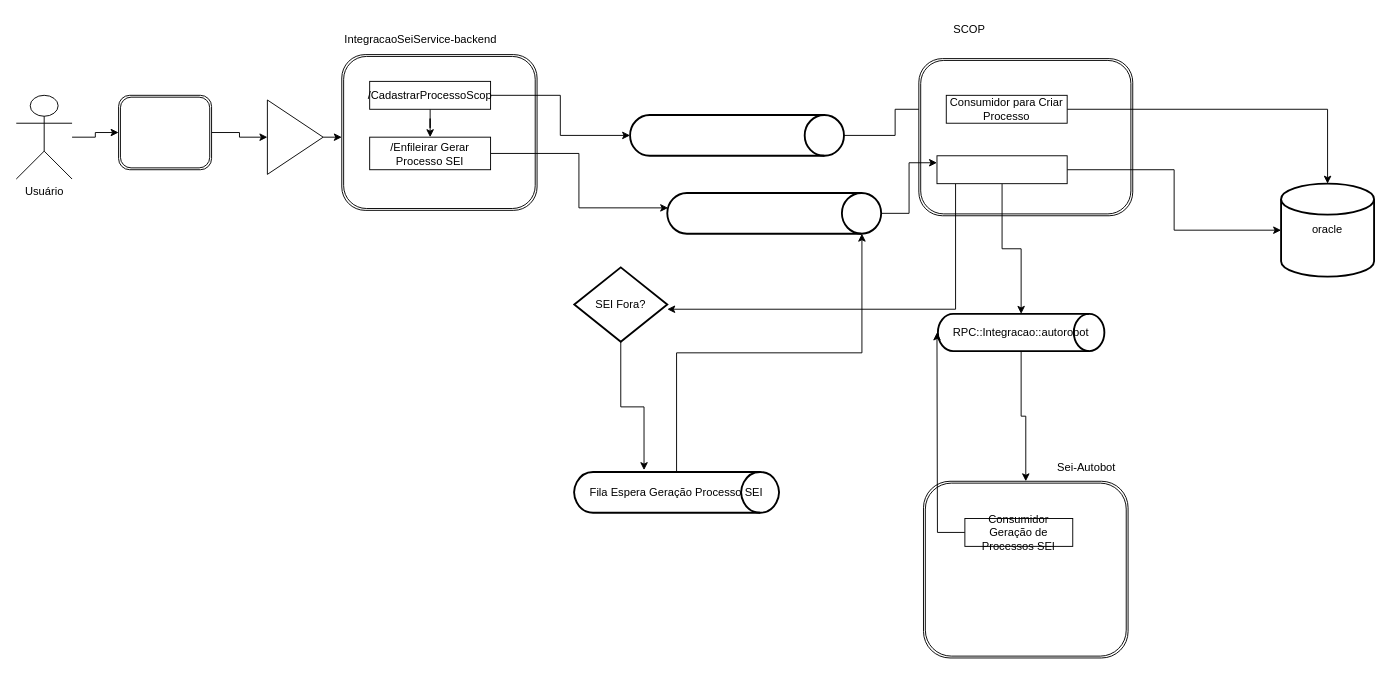
This 1391x674 diagram has some shape labels left out. Here are the shapes that lost their labels. From the top down, the centre of each, then its label:
[165,132]: Integracao-Sei-Frontend
[736,135]: Fila Cadastro de Processo
[1001,169]: Consumidor para Gerar Processo SEI
[774,213]: Fila Geração Processo SEI
